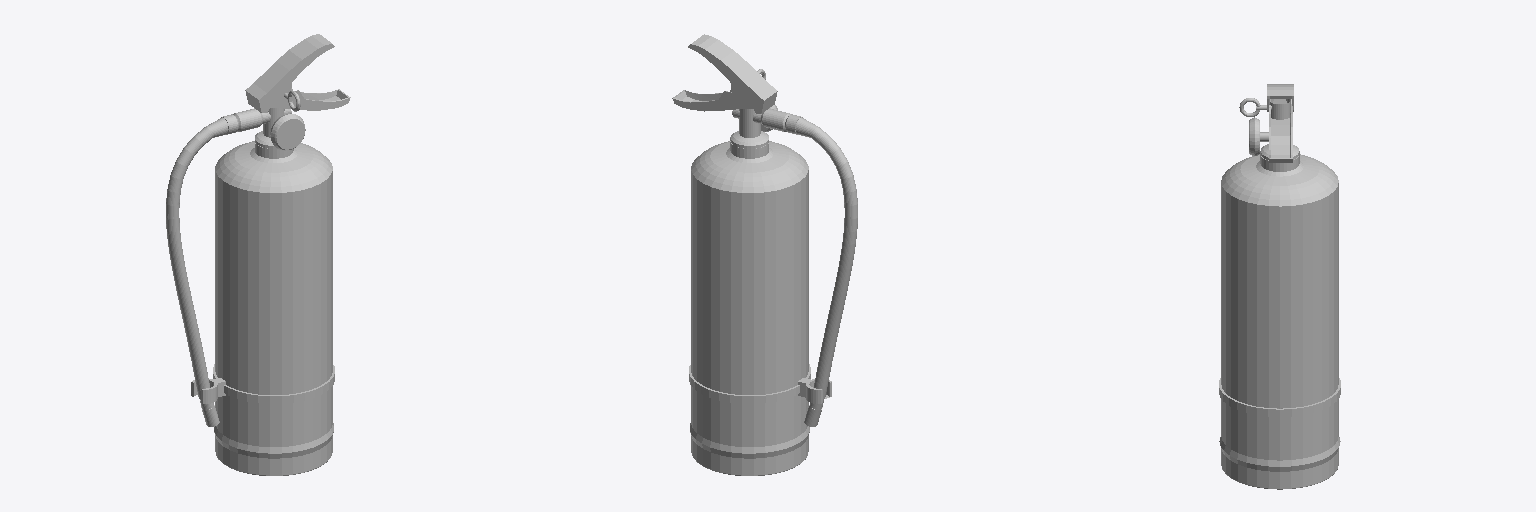
Rendered from extinguidor.obj.
3 renders of one model, left to right at view 1: azimuth 30°, elevation 25°; view 2: azimuth 150°, elevation 25°; view 3: azimuth 270°, elevation 25°, orthographic.
Visible parts, largest first — view 1: fire_extinguisher:Mesh; view 2: fire_extinguisher:Mesh; view 3: fire_extinguisher:Mesh.
Part boxes in pixels (bbox=[...]): fire_extinguisher:Mesh: bbox=[166, 34, 350, 475]; fire_extinguisher:Mesh: bbox=[672, 34, 857, 475]; fire_extinguisher:Mesh: bbox=[1219, 84, 1340, 489].
Size of the model in its own units: 0.6887 by 1.47 by 0.4101.